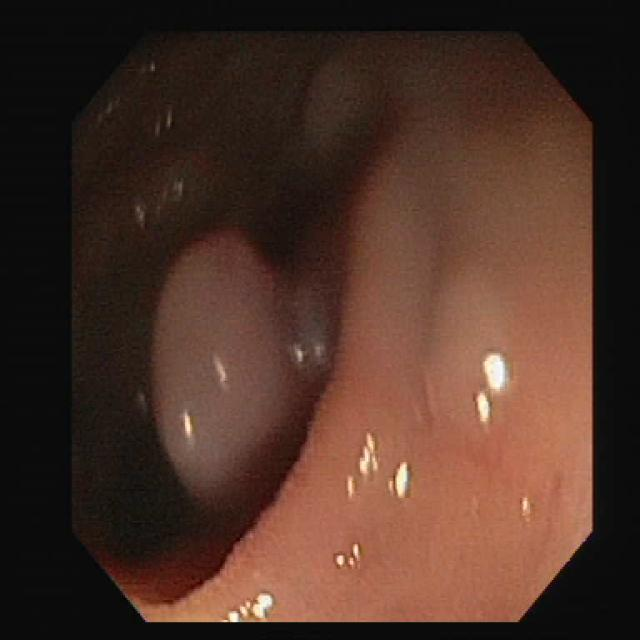tumor: (148, 231, 308, 500)
